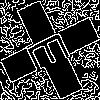E: (25, 25, 80, 76)
